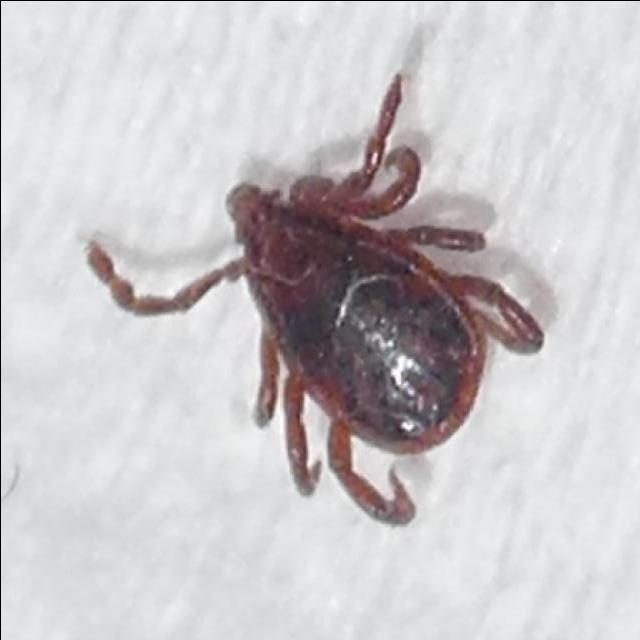Rhipicephalus Sanguineus-M: (87, 75, 546, 529)
